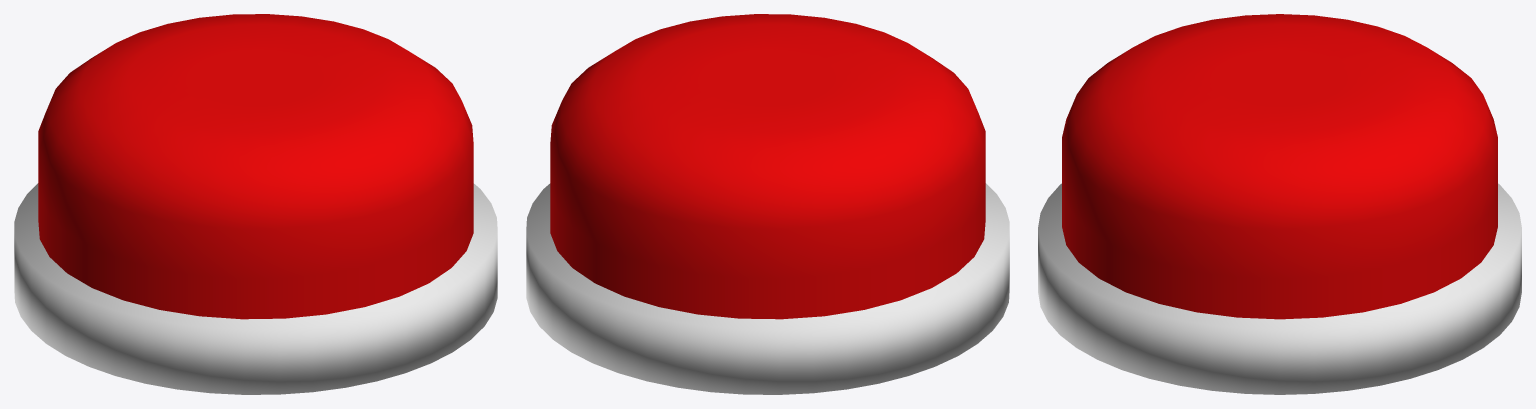
File: trigger.fbx
3 views of the same model, side by side, from view 1: azimuth 30°, elevation 25°; view 2: azimuth 150°, elevation 25°; view 3: azimuth 270°, elevation 25° (orthographic).
Parts seen in each view (by area): view 1: buttontop, buttonplatform; view 2: buttontop, buttonplatform; view 3: buttontop, buttonplatform.
Boxes of the visible parts, x1,y1,x2,y2 form: buttontop: (38,14,473,319); buttonplatform: (14,183,497,394); buttontop: (550,14,985,319); buttonplatform: (526,183,1009,394); buttontop: (1062,14,1497,319); buttonplatform: (1038,183,1521,394).
Bounding box in the file's own units: 2.22 × 1.08 × 2.22.
